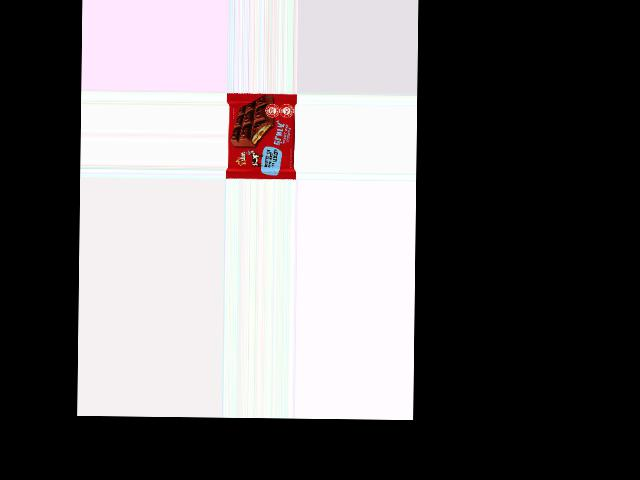chocolate: (226, 94, 297, 176)
